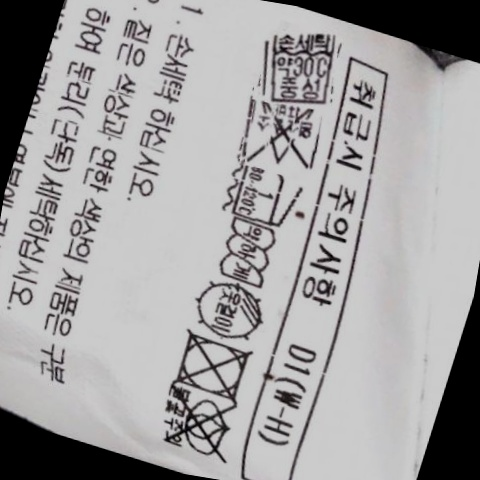DN_tumble_dry: (165, 327, 258, 403)
hand_wash: (256, 27, 344, 108)
iron_low: (226, 161, 302, 230)
line_dry_in_shade: (186, 276, 273, 344)
wring: (214, 216, 279, 290)
